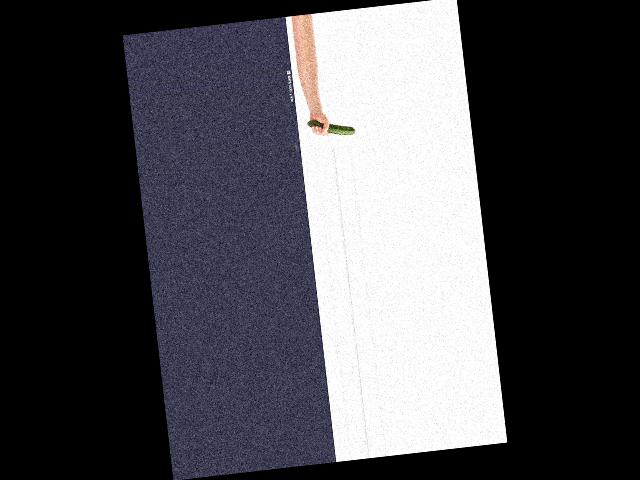cucumber: (307, 116, 355, 140)
